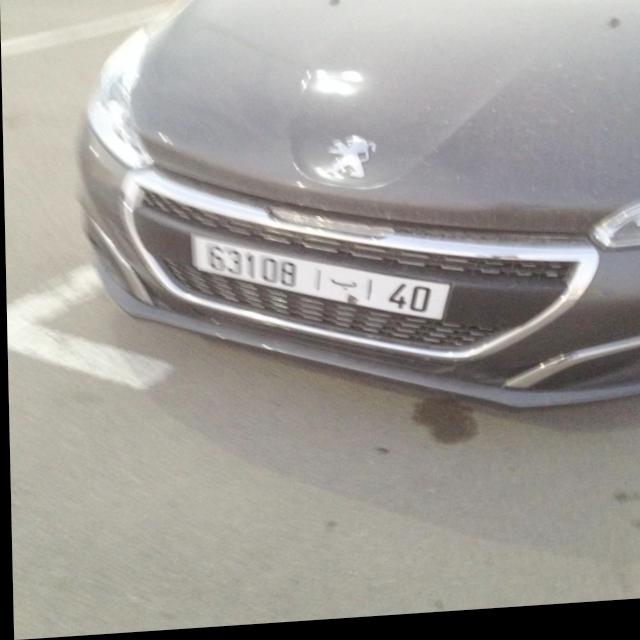License-Plate: (191, 239, 449, 325)
